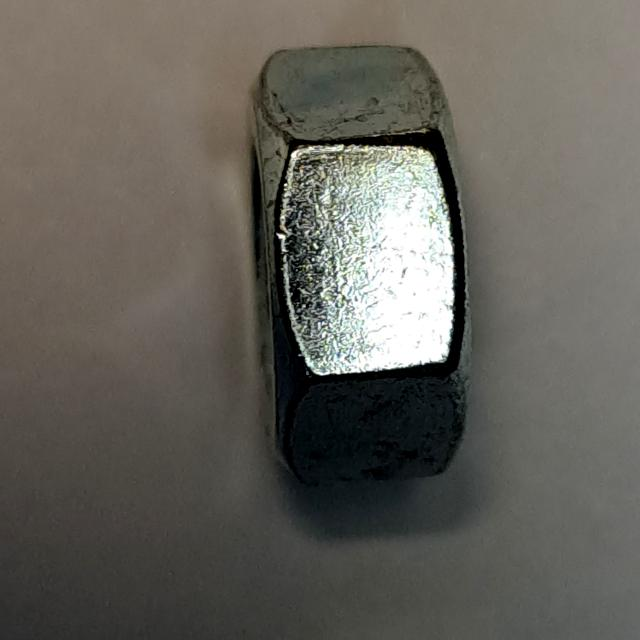Side_Excellent: (222, 29, 500, 514)
